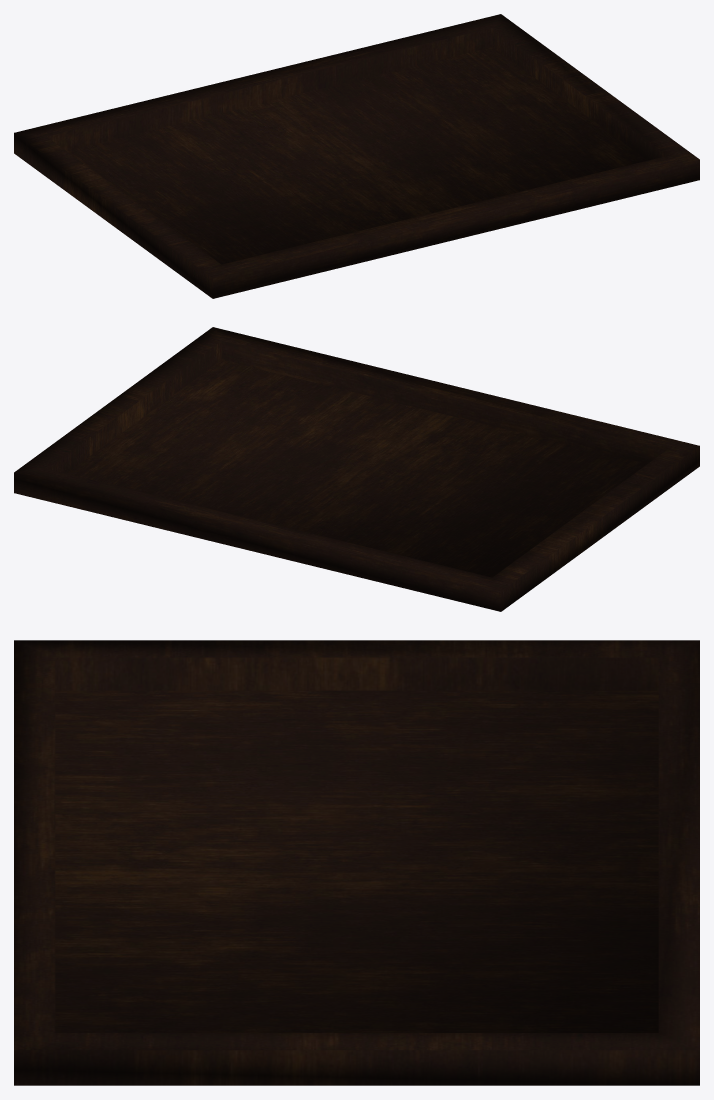
File: frame.glb
3 renders of one model, top to bottom at view 1: azimuth 30°, elevation 25°; view 2: azimuth 150°, elevation 25°; view 3: azimuth 270°, elevation 25°, orthographic. The views are drawn at different scales.
Parts seen in each view (by area): view 1: Base; view 2: Base; view 3: Base.
Part boxes in pixels (x1,y1,x2,y2): Base: [14, 14, 699, 298]; Base: [14, 327, 699, 611]; Base: [14, 640, 699, 1085].
Size of the model in its own units: 67.05 by 2.7 by 47.41.
1 material, 1 textured.
